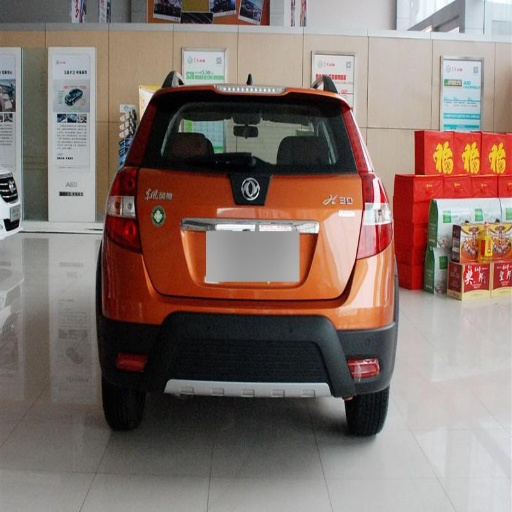back_bumper: (100, 238, 400, 398)
trunk: (141, 171, 371, 301)
